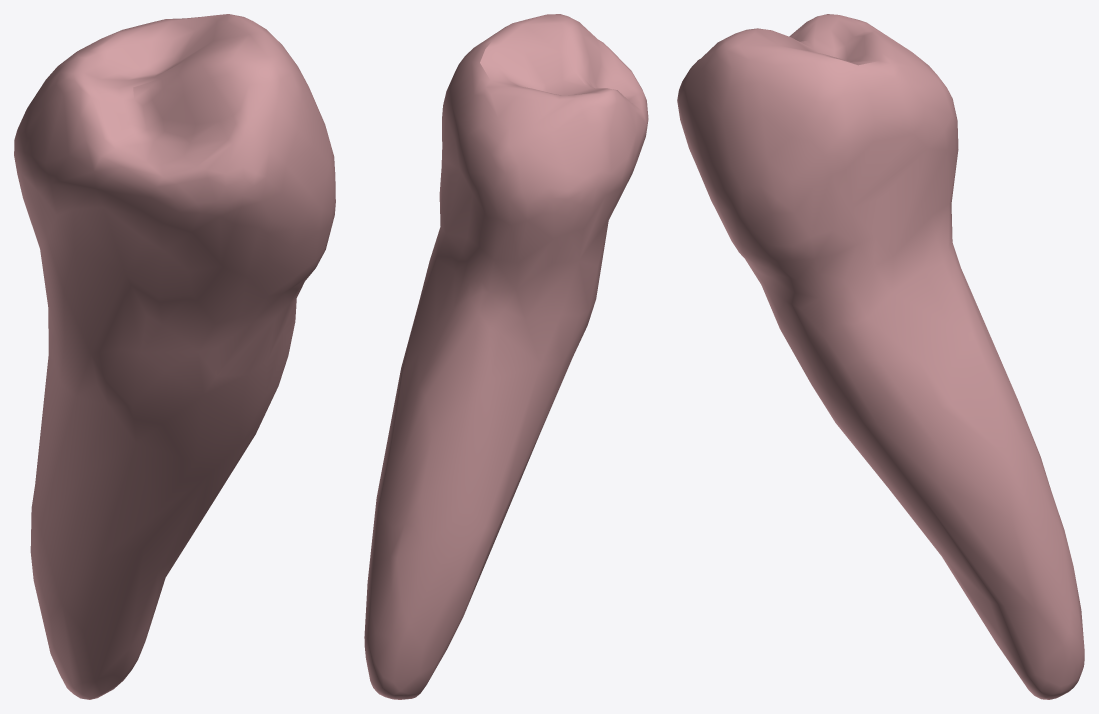
File: fma55692_fj1257.glb
3 renders of one model, left to right at view 1: azimuth 30°, elevation 25°; view 2: azimuth 150°, elevation 25°; view 3: azimuth 270°, elevation 25°, orthographic. The views are drawn at different scales.
Visible parts, largest first — view 1: FMA55692_FJ1257; view 2: FMA55692_FJ1257; view 3: FMA55692_FJ1257.
Boxes of the visible parts, box(x1,y1,x2,y2) form: FMA55692_FJ1257: box(14, 14, 335, 699); FMA55692_FJ1257: box(364, 14, 648, 699); FMA55692_FJ1257: box(677, 14, 1084, 699).
Size of the model in its own units: 0.00812 by 0.0234 by 0.0133.
